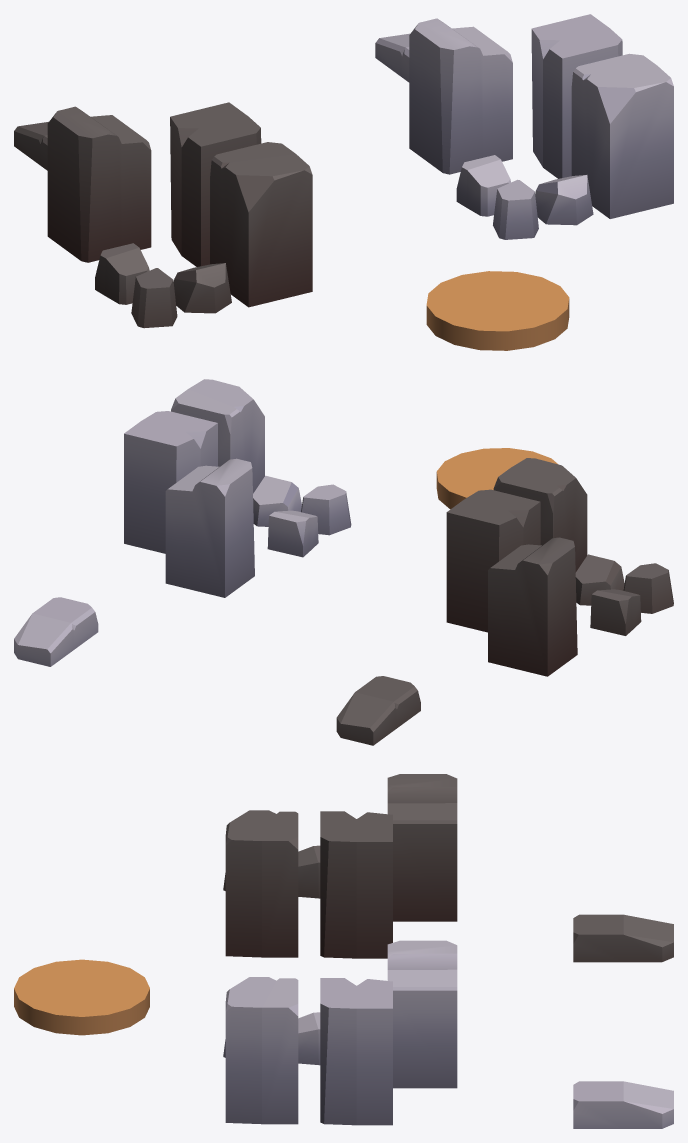
The model's file is Rock.fbx.
3 renders of one model, top to bottom at view 1: azimuth 30°, elevation 25°; view 2: azimuth 150°, elevation 25°; view 3: azimuth 270°, elevation 25°, orthographic. The views are drawn at different scales.
Visible parts, largest first — view 1: Rock_S5_004, Rock_004, Rock_S5_002, Rock_002, Circle, Rock_003, Rock_S5_003, Rock_S5_007, Rock_007, Rock_005, Rock_S5_005, Rock_006 (+3 smaller); view 2: Rock_002, Rock_S5_002, Rock_S5_003, Rock_003, Rock_S5_004, Rock_004, Rock_S5_001, Rock_001, Circle, Rock_S5_005, Rock_005, Rock_006 (+3 smaller); view 3: Rock_S5_004, Rock_004, Rock_003, Rock_S5_003, Rock_002, Rock_S5_002, Circle, Rock_S5_001, Rock_001, Rock_005, Rock_S5_005.
Boxes of the visible parts, x1=… form: Rock_S5_004: x1=210, y1=142, x2=312, y2=307; Rock_004: x1=571, y1=53, x2=673, y2=218; Rock_S5_002: x1=47, y1=106, x2=151, y2=262; Rock_002: x1=409, y1=18, x2=512, y2=174; Circle: x1=426, y1=271, x2=569, y2=350; Rock_003: x1=531, y1=14, x2=622, y2=178; Rock_S5_003: x1=170, y1=102, x2=261, y2=266; Rock_S5_007: x1=173, y1=263, x2=231, y2=313; Rock_007: x1=535, y1=175, x2=593, y2=225; Rock_005: x1=456, y1=155, x2=510, y2=216; Rock_S5_005: x1=95, y1=243, x2=149, y2=304; Rock_006: x1=493, y1=179, x2=538, y2=239; Rock_002: x1=165, y1=458, x2=254, y2=597; Rock_S5_002: x1=488, y1=537, x2=577, y2=676; Rock_S5_003: x1=446, y1=489, x2=540, y2=632; Rock_003: x1=124, y1=411, x2=217, y2=553; Rock_S5_004: x1=493, y1=458, x2=587, y2=572; Rock_004: x1=171, y1=379, x2=264, y2=493; Rock_S5_001: x1=336, y1=676, x2=420, y2=745; Rock_001: x1=14, y1=597, x2=98, y2=666; Circle: x1=436, y1=448, x2=558, y2=509; Rock_S5_005: x1=590, y1=589, x2=641, y2=635; Rock_005: x1=267, y1=510, x2=318, y2=557; Rock_006: x1=301, y1=484, x2=351, y2=535; Rock_S5_004: x1=225, y1=810, x2=298, y2=957; Rock_004: x1=225, y1=977, x2=298, y2=1124; Rock_003: x1=320, y1=978, x2=392, y2=1125; Rock_S5_003: x1=320, y1=811, x2=392, y2=958; Rock_002: x1=387, y1=940, x2=457, y2=1088; Rock_S5_002: x1=387, y1=774, x2=457, y2=921; Circle: x1=14, y1=959, x2=149, y2=1035; Rock_S5_001: x1=573, y1=914, x2=673, y2=962; Rock_001: x1=573, y1=1081, x2=673, y2=1128; Rock_005: x1=298, y1=1012, x2=320, y2=1065; Rock_S5_005: x1=298, y1=845, x2=320, y2=898.
Bounding box in the file's own units: 53.97 × 13.18 × 61.1.
